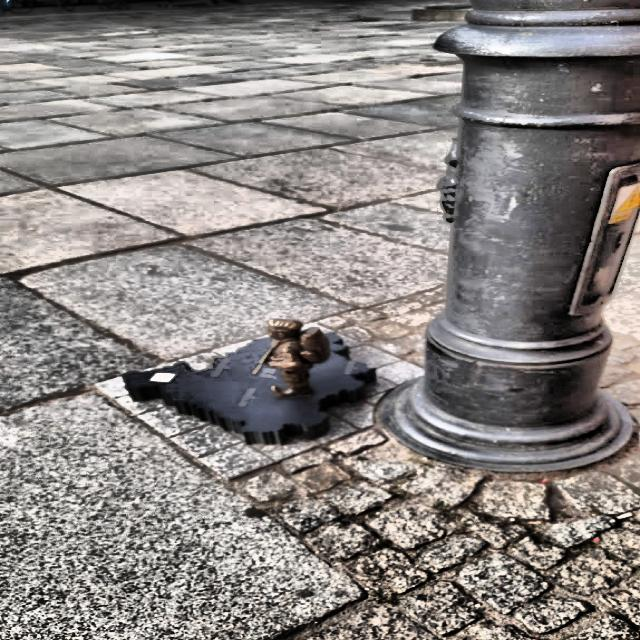WOTus: (251, 319, 331, 398)
